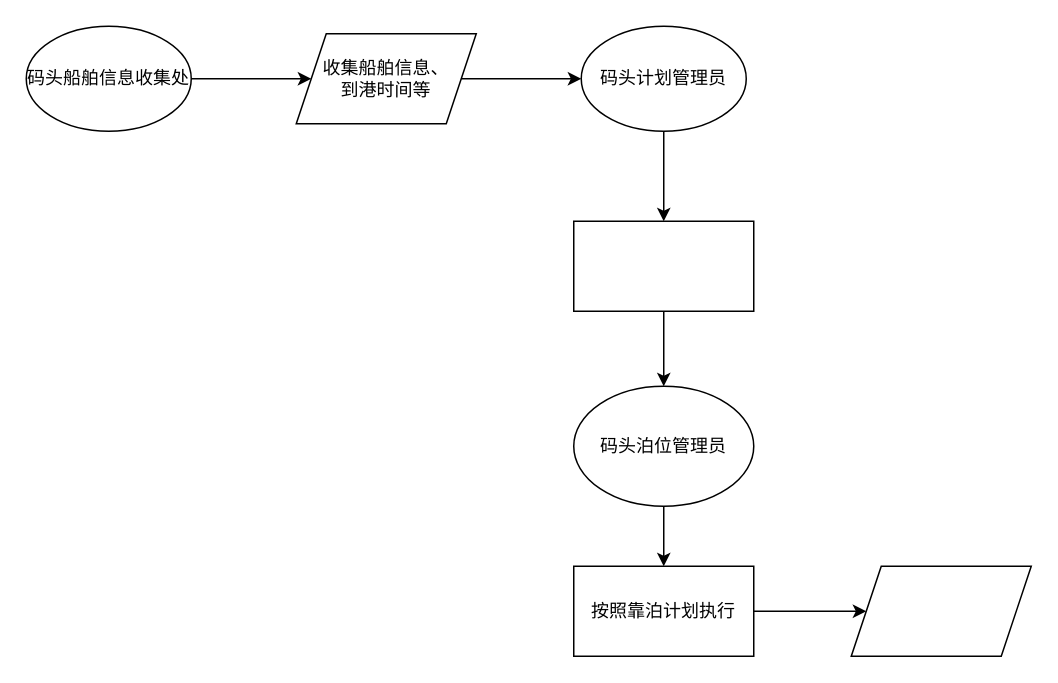
This 1058x683 diagram has some shape labels left out. Each missing label, with the box of its shape:
完成计划: (850, 565, 1031, 656)
生成靠泊计划: (572, 220, 754, 311)
